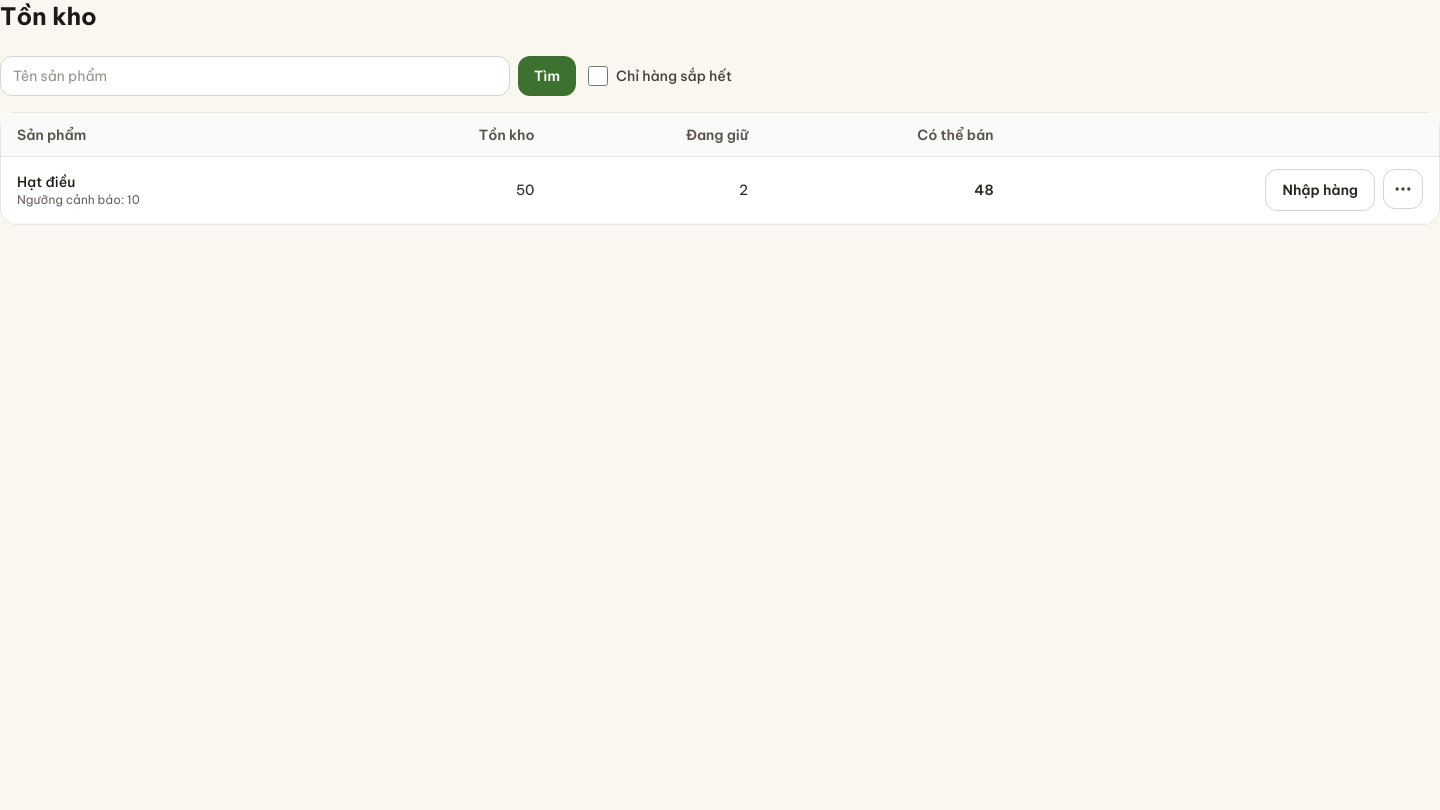
Scenario: import dialog › shows the stock after the import and the total cost while typing
This screenshot has width=1440, height=810.
Click the button "Nhập hàng".
click(1320, 190)  # box [1266, 169, 1375, 211]
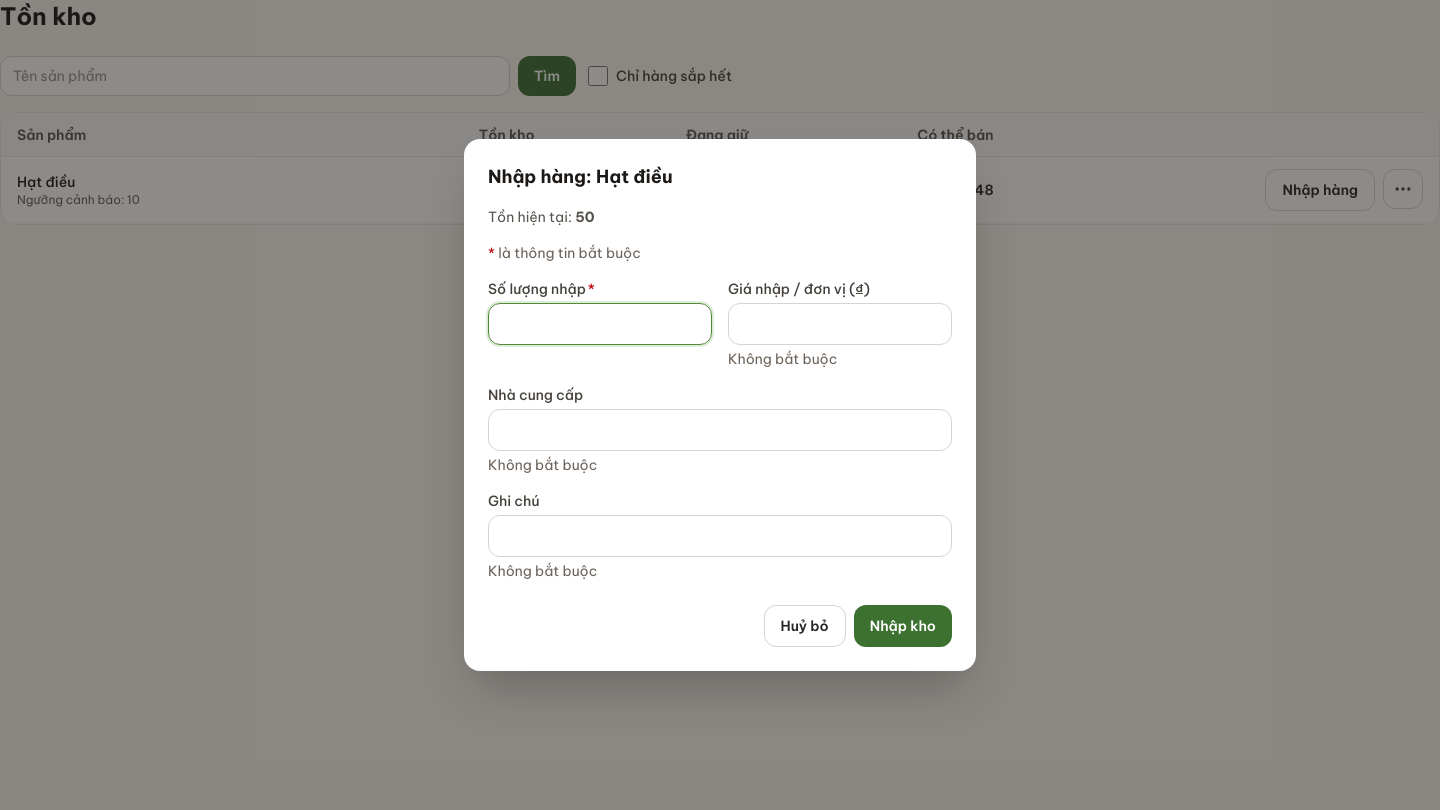
Expected: the dialog does not show "Tồn sau khi nhập"
Type "20" into the field labelled "Số lượng nhập".
click(600, 324); type("20")  # box [488, 303, 712, 345]
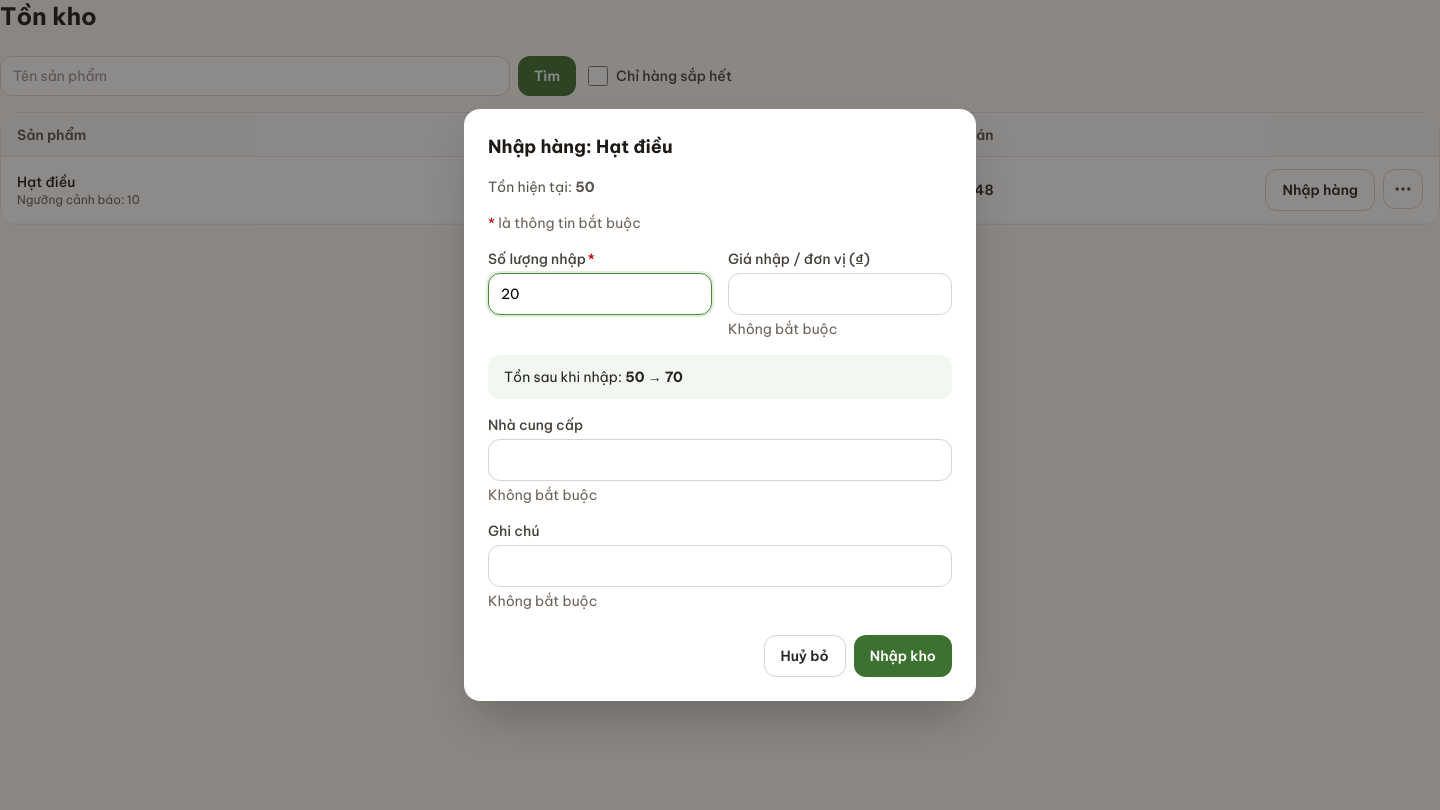
Expected: the dialog does not show "Thành tiền"
Result: the dialog shows "Tồn sau khi nhập: 50 → 70" at [464, 109, 976, 701]
Type "150000" into the field labelled "Giá nhập / đơn vị (₫)".
click(840, 294); type("150000")  # box [728, 273, 952, 315]
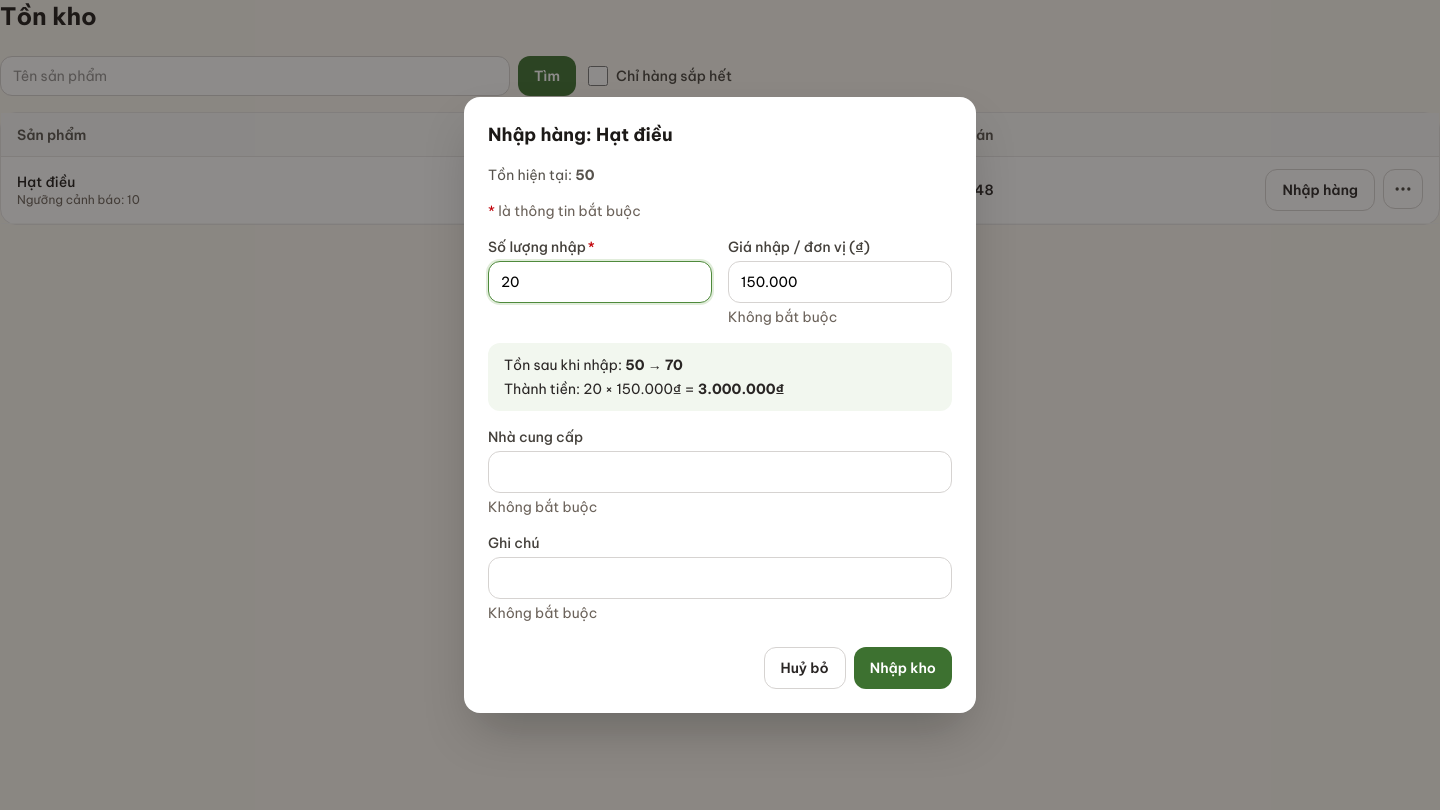
Result: the dialog shows "Thành tiền: 20 × 150.000₫ = 3.000.000₫" at [464, 97, 976, 713]
